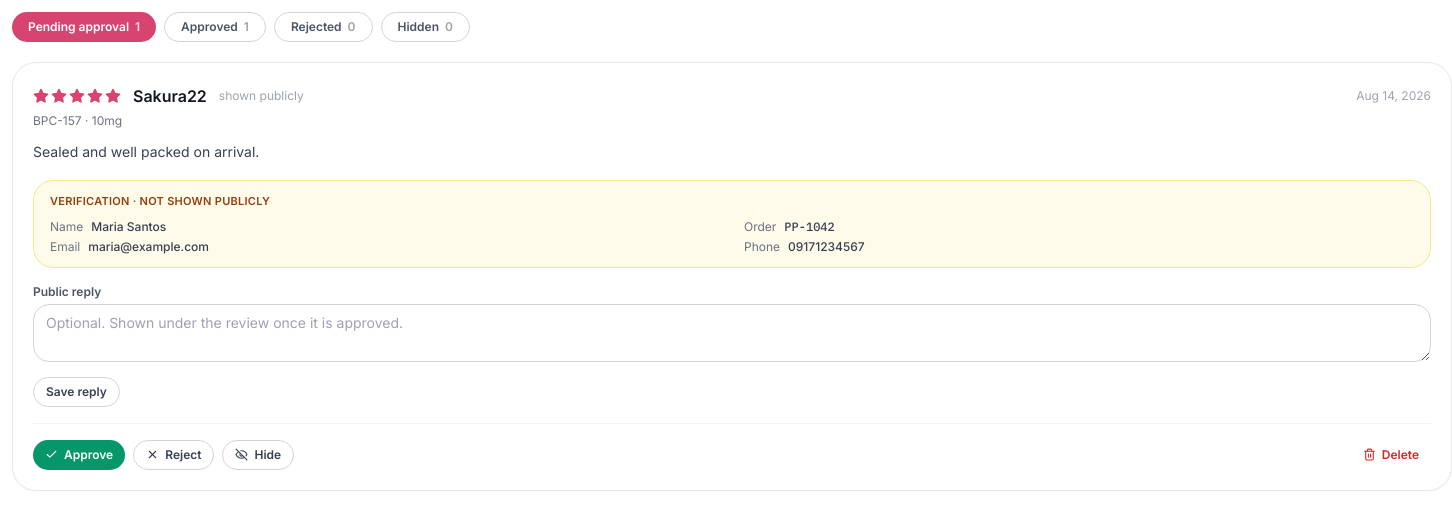
Test: ReviewsAdminManager — the queue › switches to another moderation state on demand
Click the tab "Approved1" at (215, 27), box left=164, top=12, right=266, bottom=42
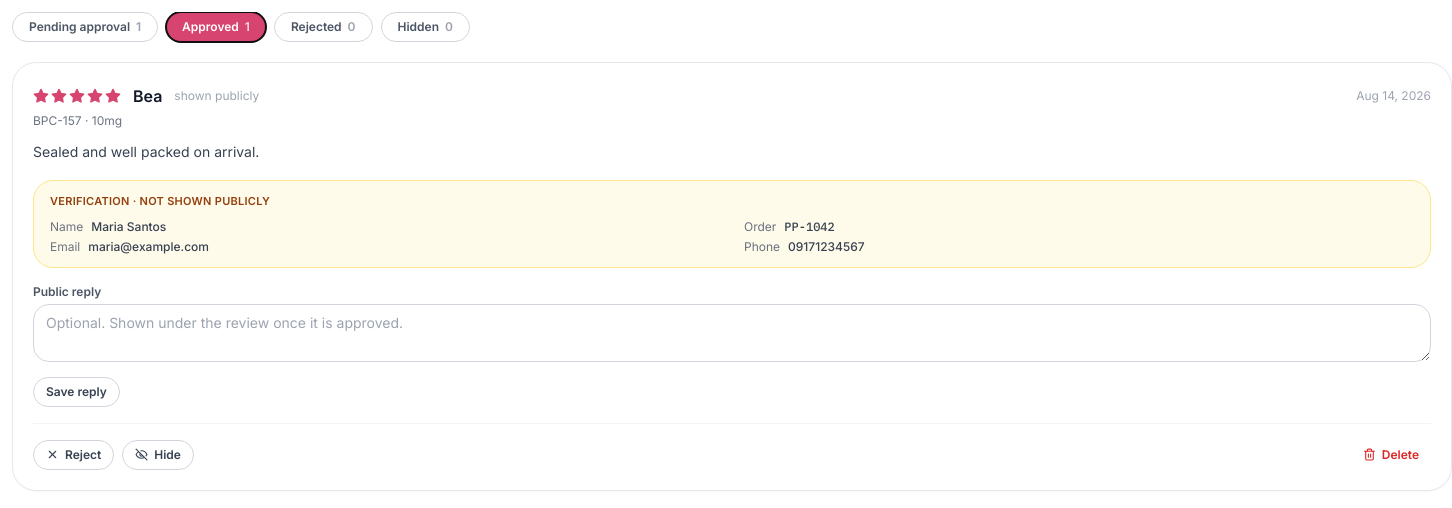
Expected: the text "Bea" is shown, left=133, top=83, right=162, bottom=109
Expected: the text "Sakura22" is gone
